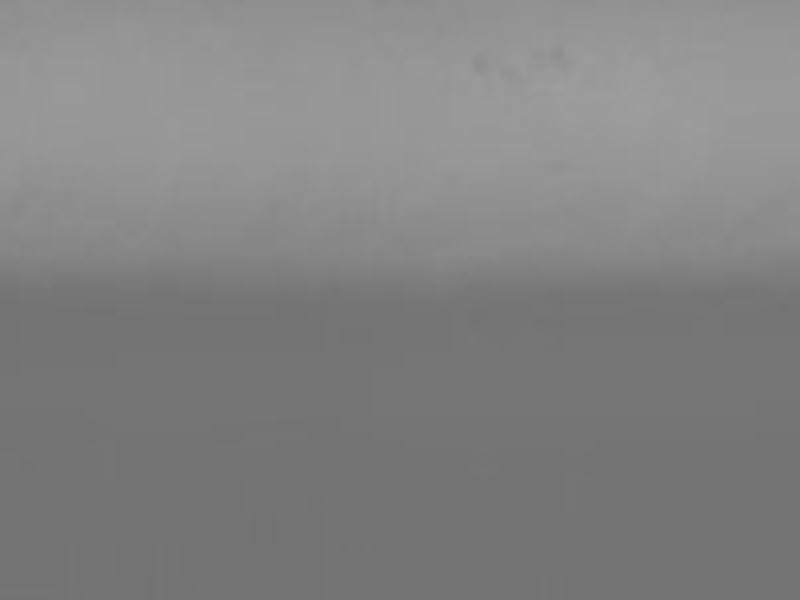defect: (496, 63, 519, 86), (547, 42, 568, 63), (471, 55, 487, 71)
